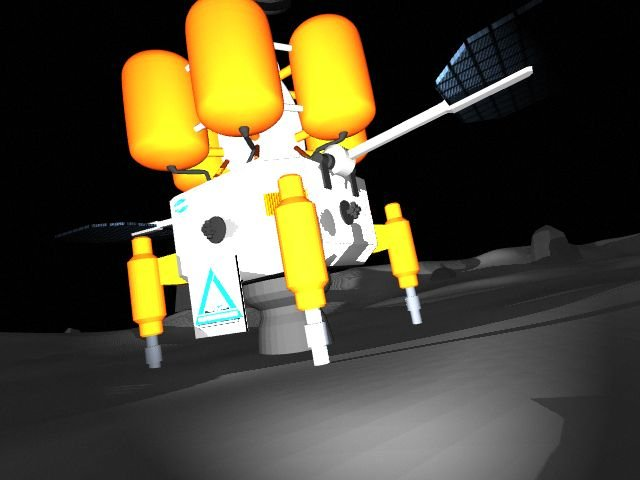basemarker: (195, 266, 241, 328)
